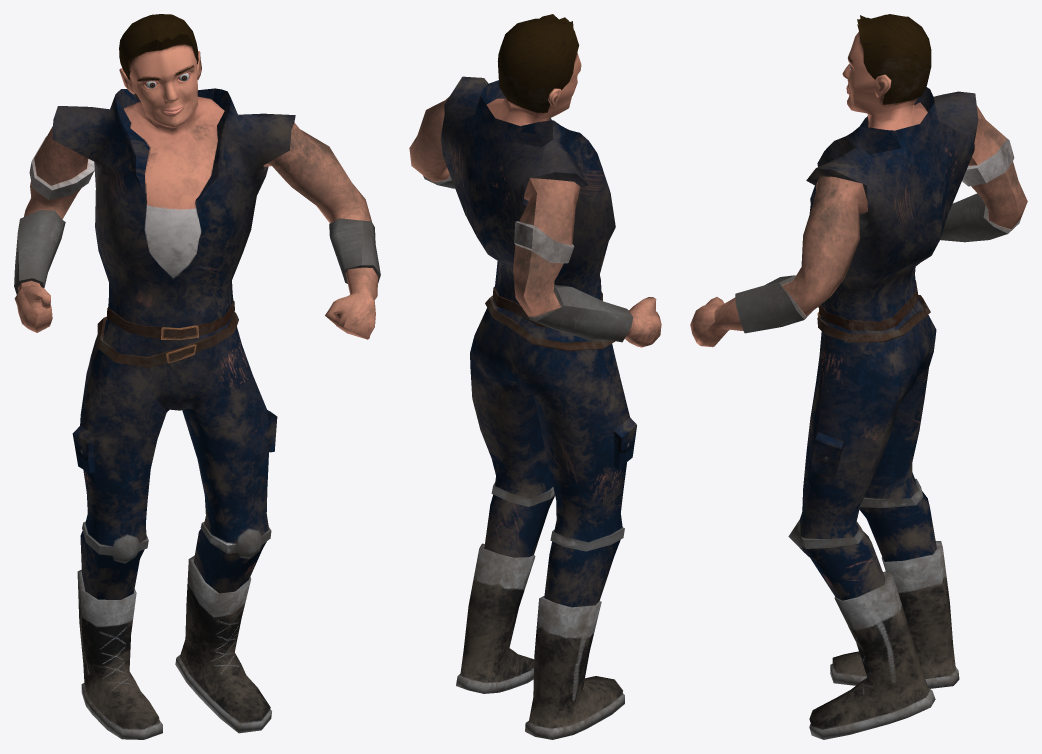
The model's file is Anim_ataque_d1_jugador.0018.obj.
3 views of the same model, side by side, from view 1: azimuth 30°, elevation 25°; view 2: azimuth 150°, elevation 25°; view 3: azimuth 270°, elevation 25° (orthographic).
Visible parts, largest first — view 1: polySurface1; view 2: polySurface1; view 3: polySurface1.
Part boxes in pixels (<box>): polySurface1: <box>14,14,380,739</box>; polySurface1: <box>409,14,661,739</box>; polySurface1: <box>690,14,1027,739</box>.
Bounding box in the file's own units: 4.3 × 9.63 × 4.29.
